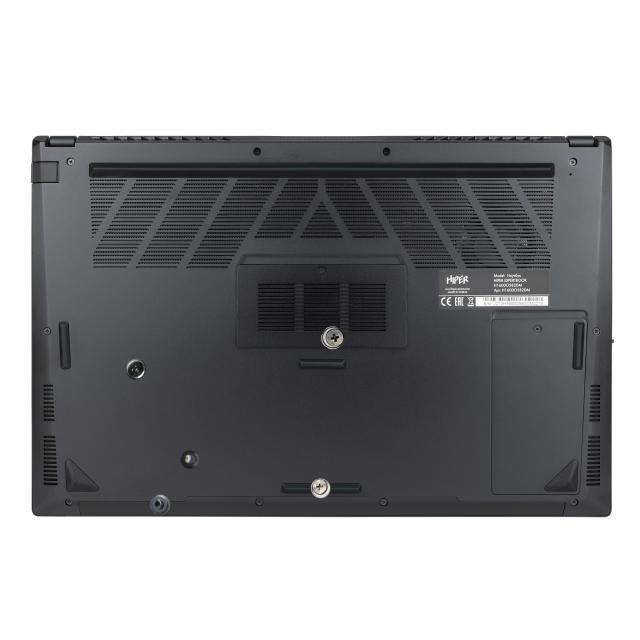lock: (321, 326, 344, 349), (124, 358, 146, 380), (310, 478, 330, 498)
missing_screw: (150, 494, 170, 515), (180, 450, 200, 469)
